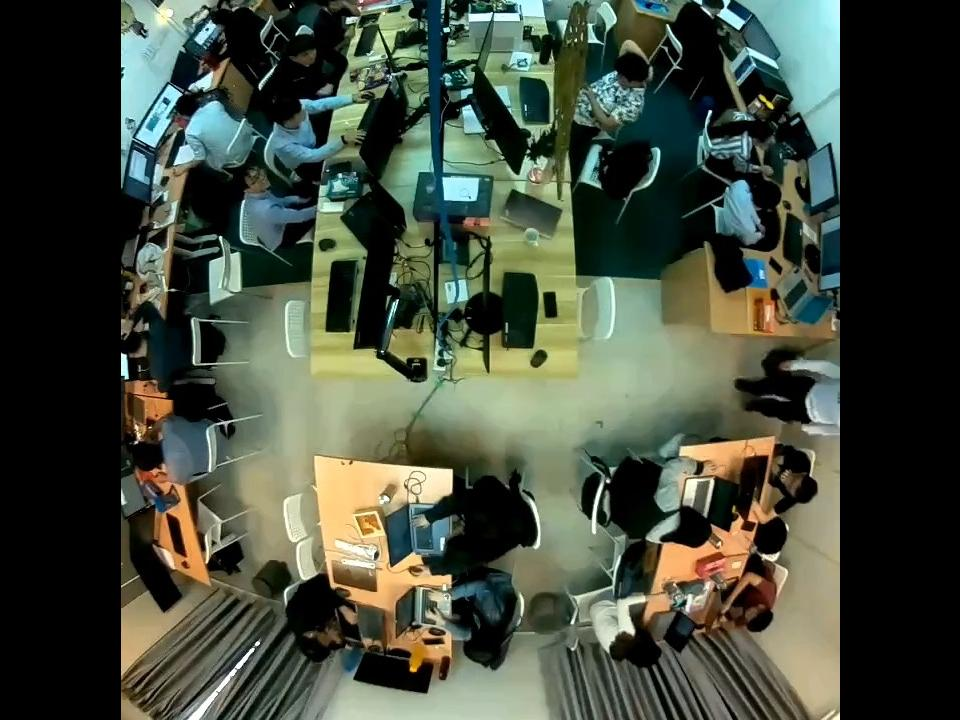name-tag: (834, 388, 840, 406)
